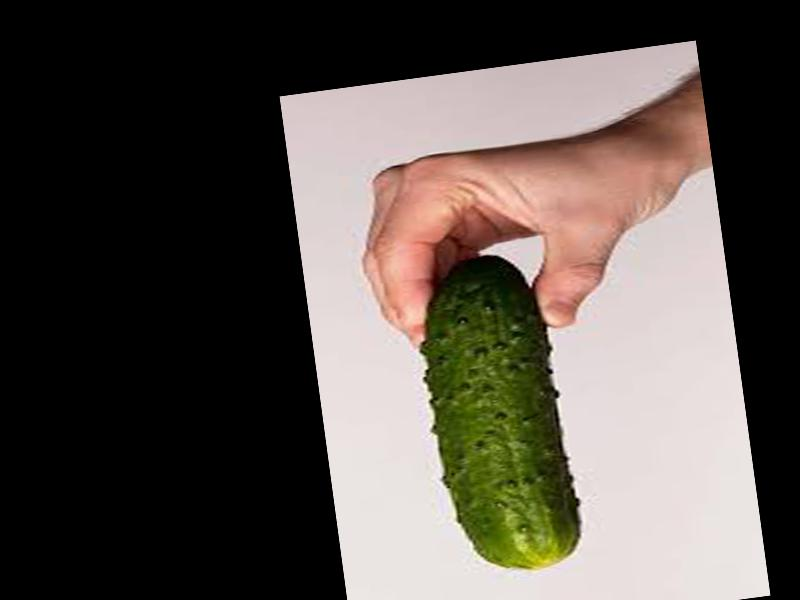Cucumber: (411, 248, 575, 578)
